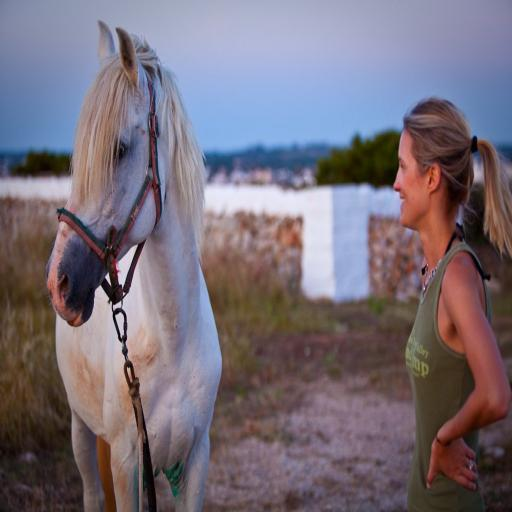horse: (44, 16, 224, 512)
